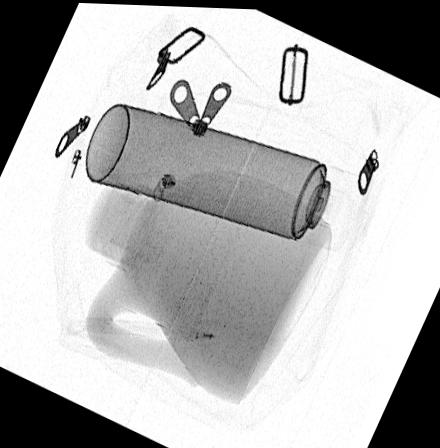Sprayer: (85, 102, 364, 250)
